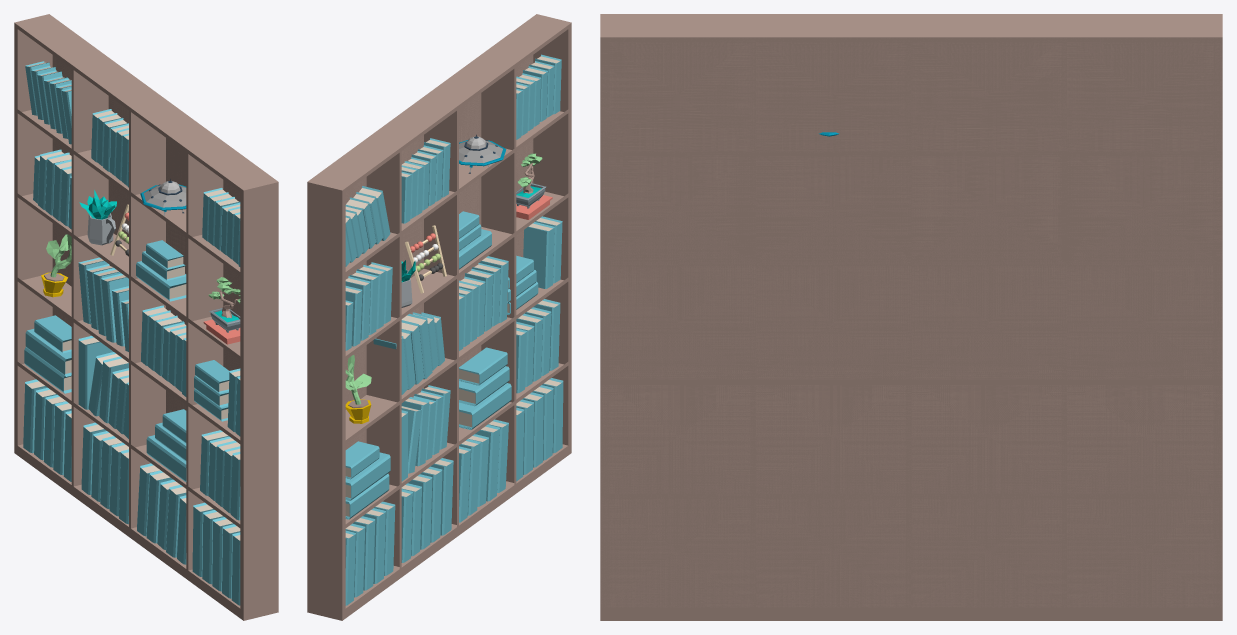
File: bookcase.glb
3 renders of one model, left to right at view 1: azimuth 30°, elevation 25°; view 2: azimuth 150°, elevation 25°; view 3: azimuth 270°, elevation 25°, orthographic. The views are drawn at different scales.
Parts seen in each view (by area): view 1: bookcase_structure.001, bonsai.001, shelf_plant.001, book.1.1.0, shelf_plant_2.001, flying_saucer.001, book.0.1.1, book.2.3.0, book.0.1.2, book.2.0.1, book.0.0.0, book.1.2.3 (+65 smaller); view 2: bookcase_structure.001, book.3.2.3, bonsai.001, book.2.1.2, book.2.1.0, flying_saucer.001, shelf_plant_2.001, abbicus.001, book.0.1.1, book.2.1.1, book.1.0.4, book.2.0.3 (+71 smaller); view 3: bookcase_structure.001.
Boxes of the visible parts, x1=… form: bookcase_structure.001: x1=14, y1=14, x2=278, y2=620; bonsai.001: x1=203, y1=277, x2=240, y2=344; shelf_plant.001: x1=79, y1=190, x2=116, y2=245; book.1.1.0: x1=78, y1=335, x2=113, y2=409; shelf_plant_2.001: x1=41, y1=234, x2=71, y2=297; flying_saucer.001: x1=140, y1=179, x2=186, y2=215; book.0.1.1: x1=25, y1=329, x2=71, y2=376; book.2.3.0: x1=136, y1=261, x2=186, y2=301; book.0.1.2: x1=34, y1=315, x2=71, y2=353; book.2.0.1: x1=146, y1=470, x2=172, y2=543; book.0.0.0: x1=23, y1=379, x2=47, y2=453; book.1.2.3: x1=101, y1=273, x2=128, y2=342; bookcase_structure.001: x1=307, y1=14, x2=571, y2=620; book.3.2.3: x1=523, y1=222, x2=554, y2=288; bonsai.001: x1=516, y1=153, x2=552, y2=219; book.2.1.2: x1=459, y1=347, x2=507, y2=385; book.2.1.0: x1=459, y1=383, x2=511, y2=429; flying_saucer.001: x1=459, y1=134, x2=506, y2=173; shelf_plant_2.001: x1=345, y1=355, x2=371, y2=423; abbicus.001: x1=405, y1=225, x2=446, y2=293; book.0.1.1: x1=345, y1=452, x2=390, y2=500; book.2.1.1: x1=459, y1=366, x2=509, y2=406; book.1.0.4: x1=430, y1=458, x2=453, y2=535; book.2.0.3: x1=475, y1=424, x2=499, y2=501; bookcase_structure.001: x1=600, y1=14, x2=1222, y2=620.
Size of the model in its own units: 2.68 by 20.48 by 19.79.
